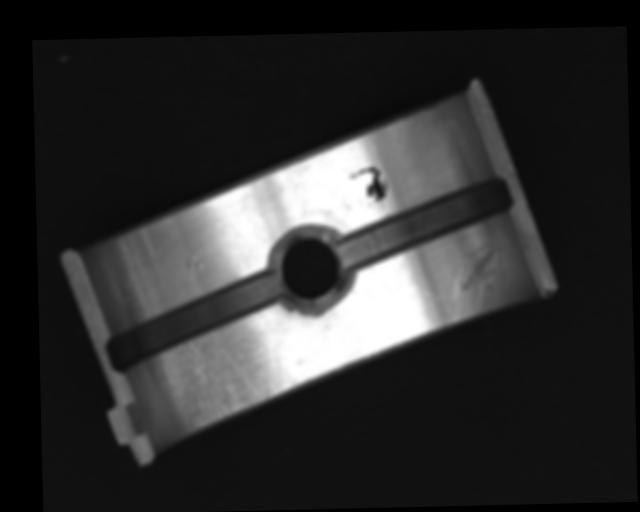blot: (348, 165, 389, 206)
bruise: (182, 251, 204, 270)
gap: (104, 269, 289, 373), (339, 174, 515, 267)
hole: (268, 228, 350, 306)
nick: (446, 238, 500, 323)
scratch: (150, 334, 298, 427)
